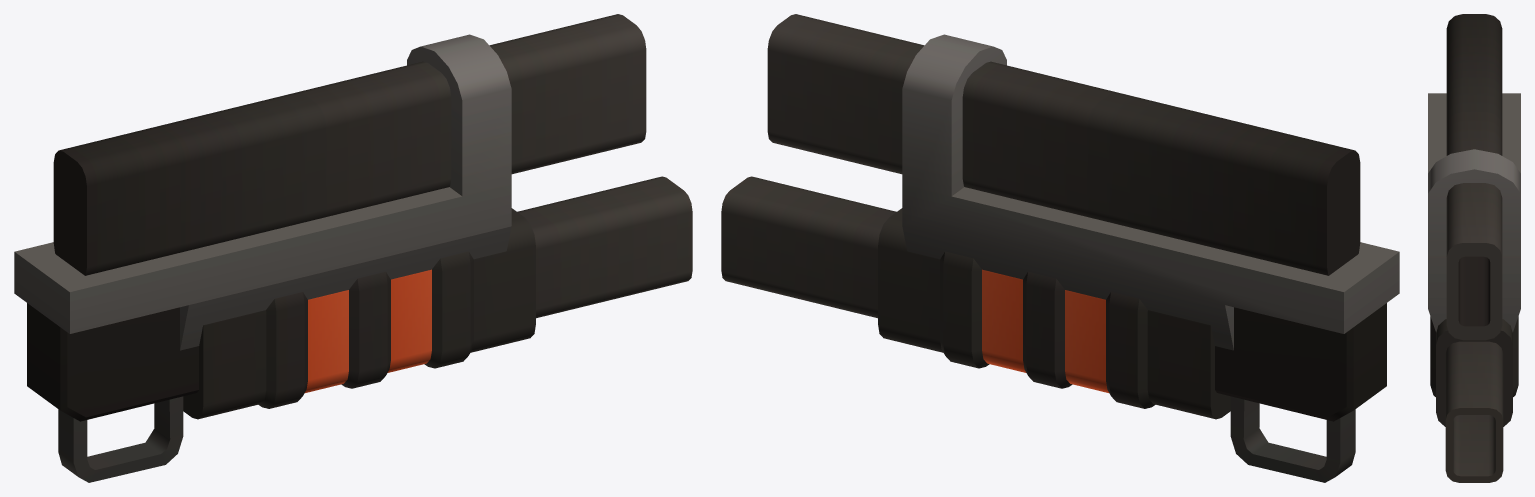
File: AR6_GrenadeLauncher.fbx
The picture shows the model from 3 angles, left to right: view 1: azimuth 30°, elevation 25°; view 2: azimuth 150°, elevation 25°; view 3: azimuth 270°, elevation 25°; orthographic projection. The views are drawn at different scales.
Parts seen in each view (by area): view 1: AR6_GrenadeLauncher; view 2: AR6_GrenadeLauncher; view 3: AR6_GrenadeLauncher.
Part boxes in pixels (x1,y1,x2,y2): AR6_GrenadeLauncher: (14, 14, 692, 482); AR6_GrenadeLauncher: (721, 14, 1399, 482); AR6_GrenadeLauncher: (1428, 14, 1520, 482).
Size of the model in its own units: 33.44 by 17.18 by 5.07.
